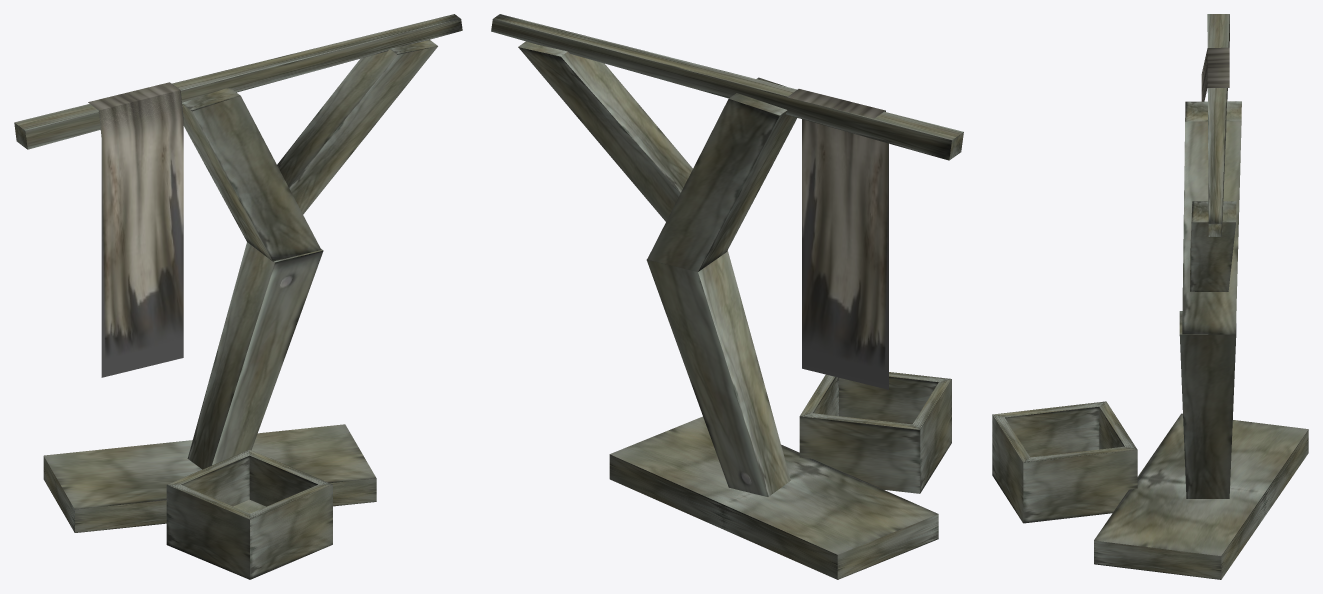
File: prop_parrot_stand.fbx
3 renders of one model, left to right at view 1: azimuth 30°, elevation 25°; view 2: azimuth 150°, elevation 25°; view 3: azimuth 270°, elevation 25°, orthographic. The views are drawn at different scales.
Visible parts, largest first — view 1: pPlane2, pCube6, polySurface6, polySurface3, polySurface4, polySurface1, polySurface5, pPlane1; view 2: polySurface6, pPlane2, polySurface3, pCube6, polySurface4, polySurface5, polySurface1, pPlane1; view 3: polySurface6, pCube6, polySurface3, polySurface4, polySurface1, polySurface5, pPlane1.
Part boxes in pixels (left/top/right/bottom): pPlane2: left=98, top=90, right=183, bottom=377; pCube6: left=166, top=449, right=332, bottom=579; polySurface6: left=43, top=424, right=376, bottom=532; polySurface3: left=187, top=242, right=323, bottom=469; polySurface4: left=182, top=87, right=321, bottom=261; polySurface1: left=277, top=39, right=437, bottom=214; polySurface5: left=14, top=14, right=462, bottom=149; pPlane1: left=88, top=82, right=182, bottom=376; polySurface6: left=609, top=416, right=938, bottom=579; pPlane2: left=802, top=111, right=888, bottom=389; polySurface3: left=646, top=250, right=790, bottom=496; pCube6: left=799, top=372, right=951, bottom=493; polySurface4: left=647, top=77, right=796, bottom=271; polySurface5: left=491, top=14, right=963, bottom=160; polySurface1: left=518, top=41, right=692, bottom=221; pPlane1: left=787, top=89, right=888, bottom=383; polySurface6: left=1094, top=413, right=1308, bottom=579; pCube6: left=992, top=401, right=1137, bottom=523; polySurface3: left=1179, top=311, right=1236, bottom=498; polySurface4: left=1182, top=101, right=1241, bottom=334; polySurface1: left=1190, top=201, right=1236, bottom=291; polySurface5: left=1207, top=14, right=1229, bottom=236; pPlane1: left=1202, top=47, right=1229, bottom=97.
Size of the model in its own units: 245 by 217 by 152.
2 materials, 2 textured.
